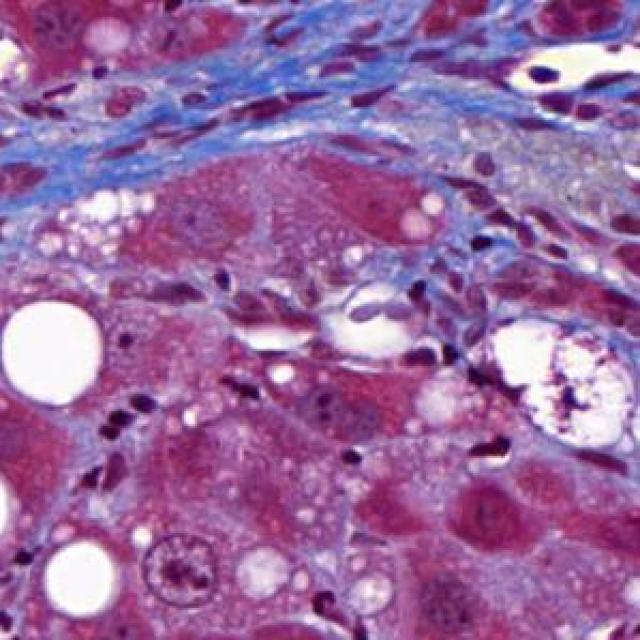inflammation: (94, 385, 163, 443), (402, 336, 469, 379)
